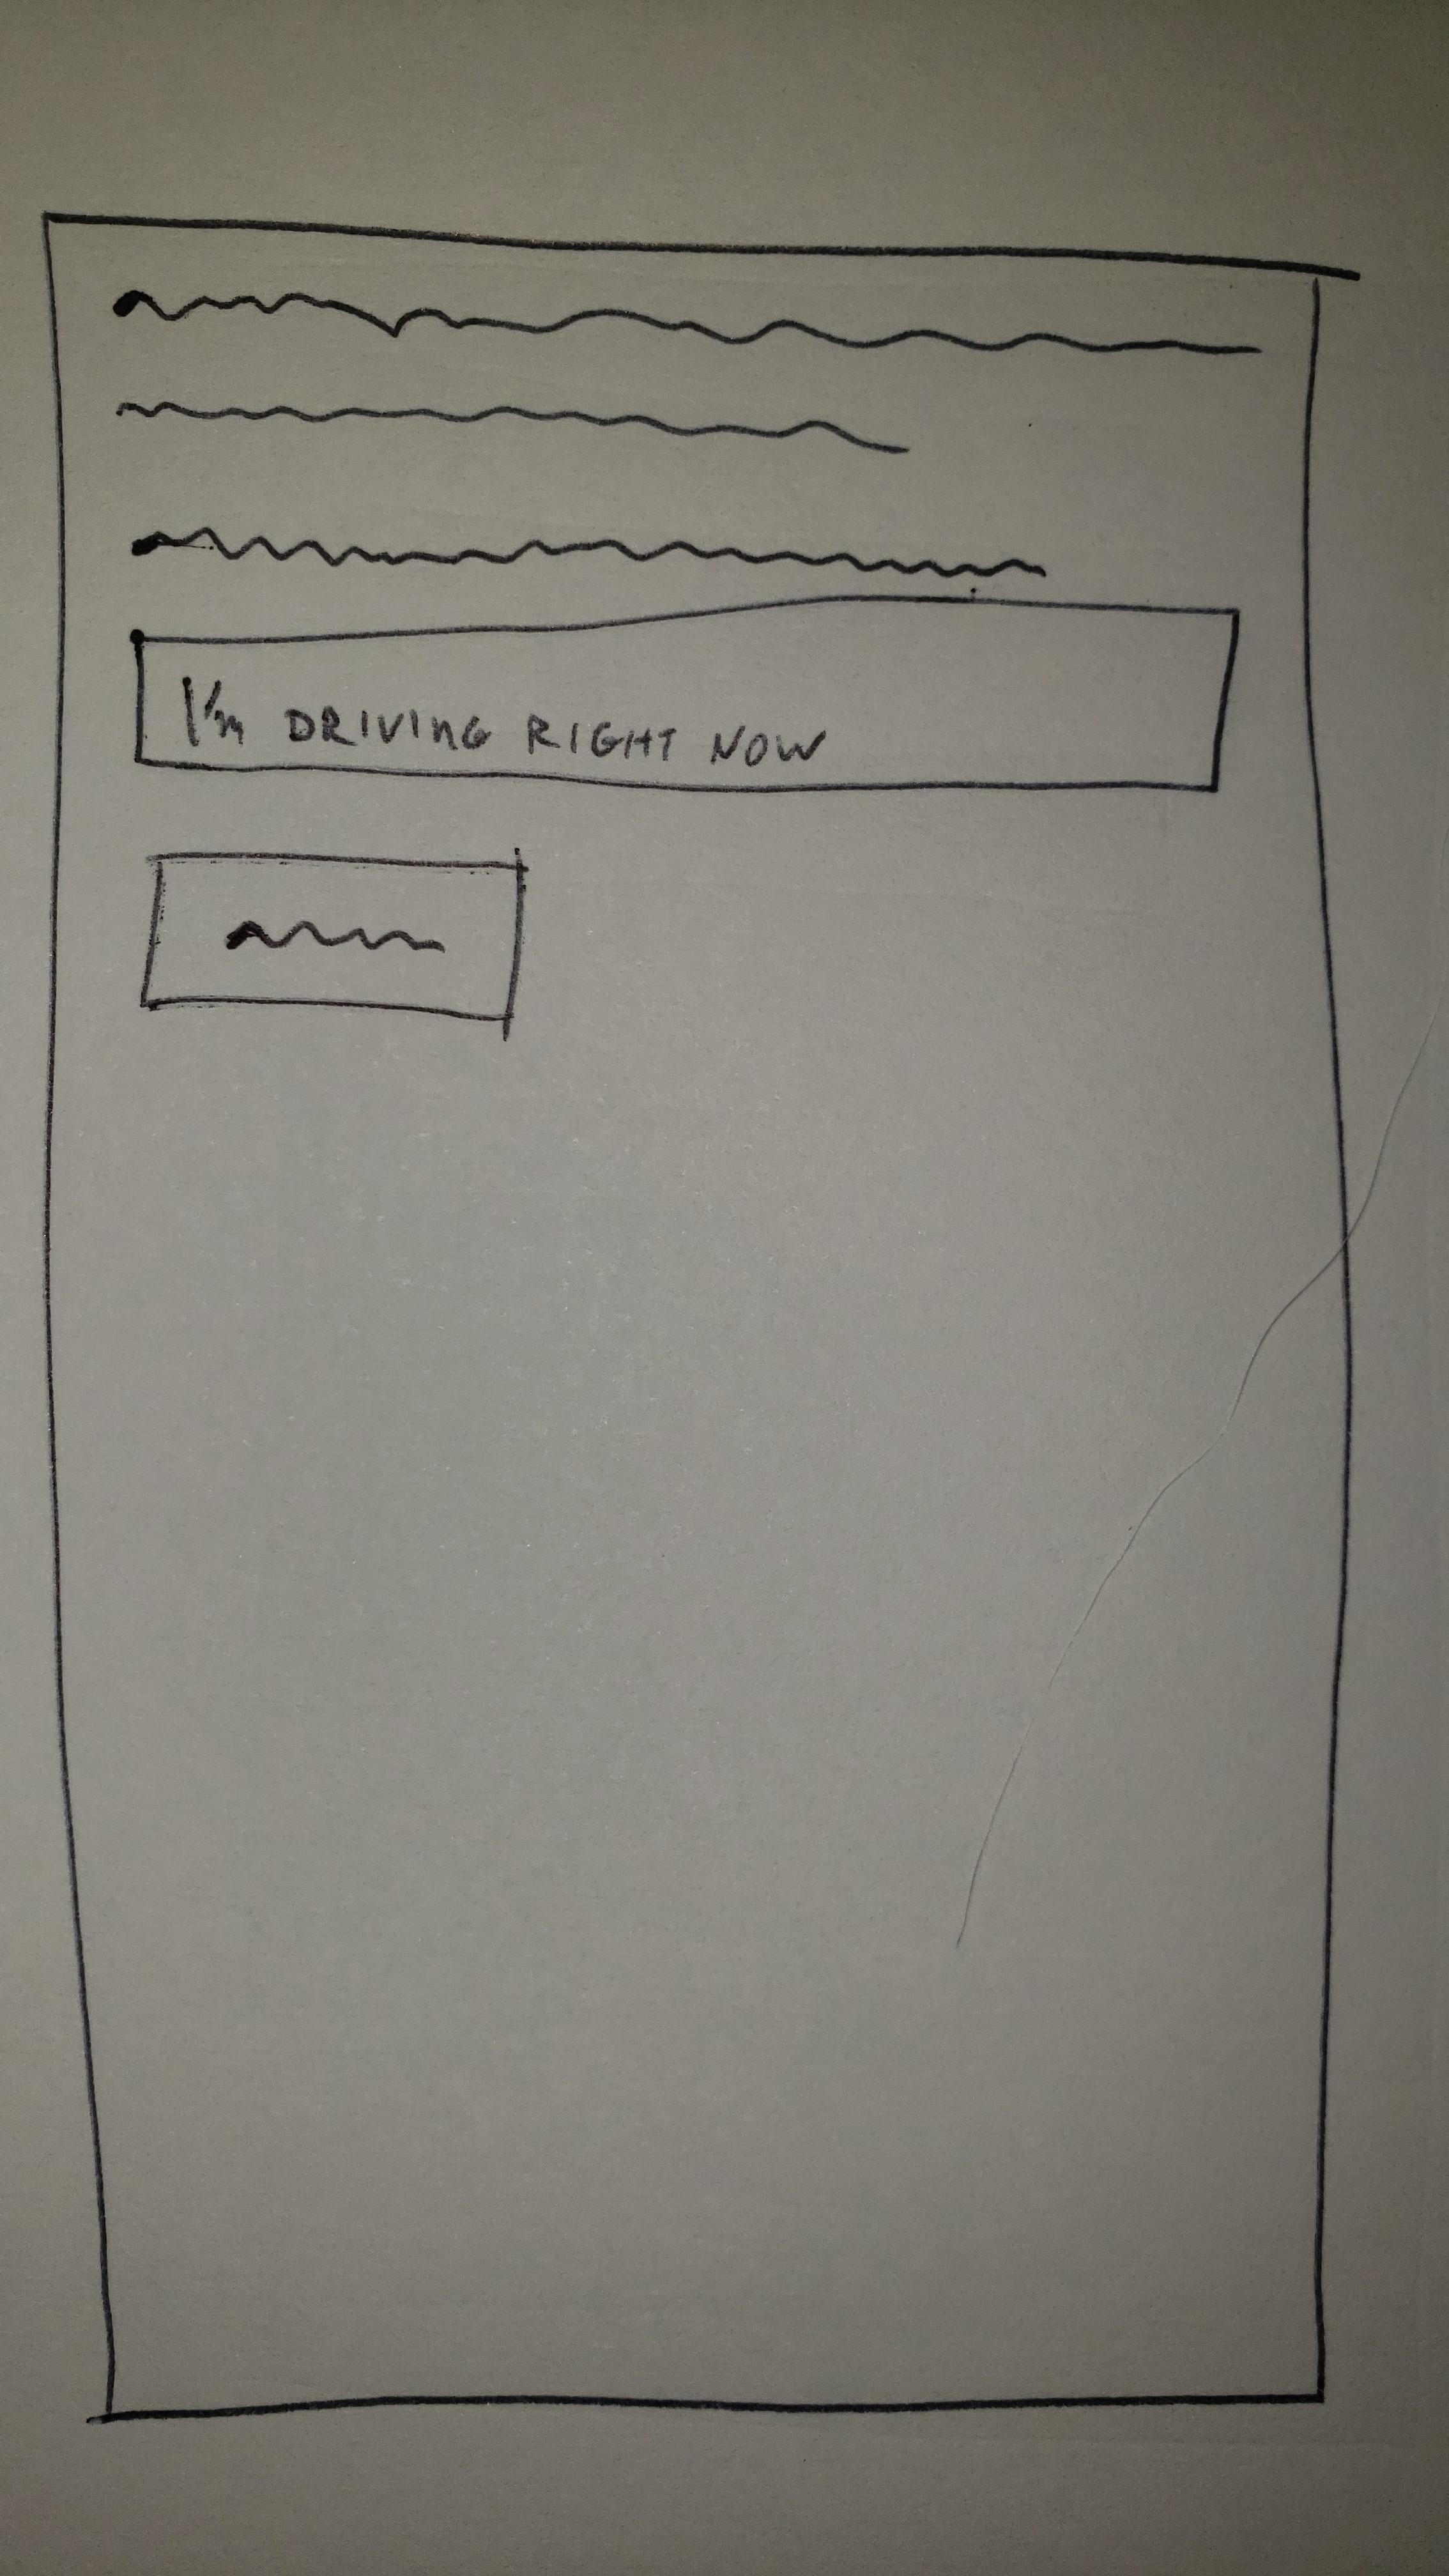Button: (140, 851, 529, 1021)
Label: (108, 285, 1265, 458), (129, 529, 1051, 582)
Screen: (41, 211, 1357, 2427)
TextBox: (129, 593, 1244, 796)
